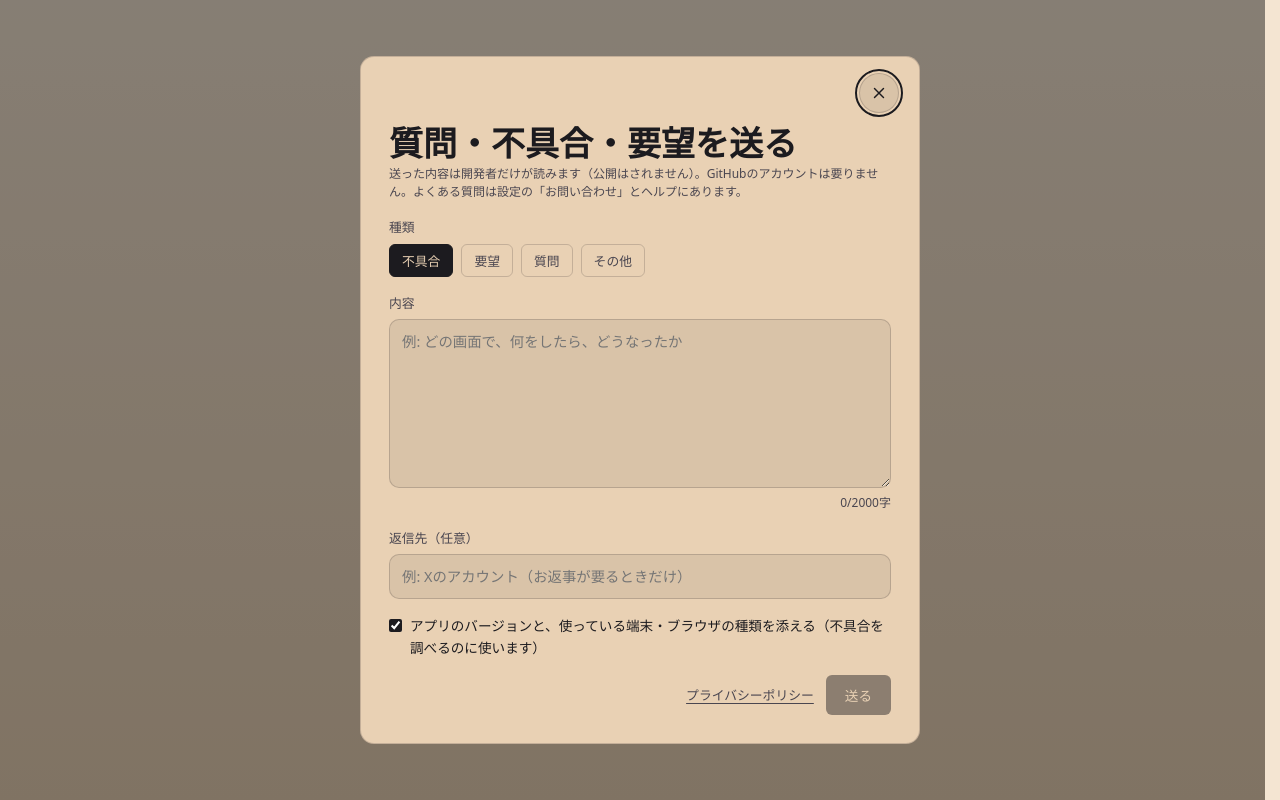
Scenario: FeedbackSheet › sends the kind, the text and the optional reply address to the site function, then thanks
This screenshot has width=1280, height=800.
Expected: the button "送る" is disabled, [826,675,891,715]
Click the button "要望" at point(487, 260), box [461,244,513,277]
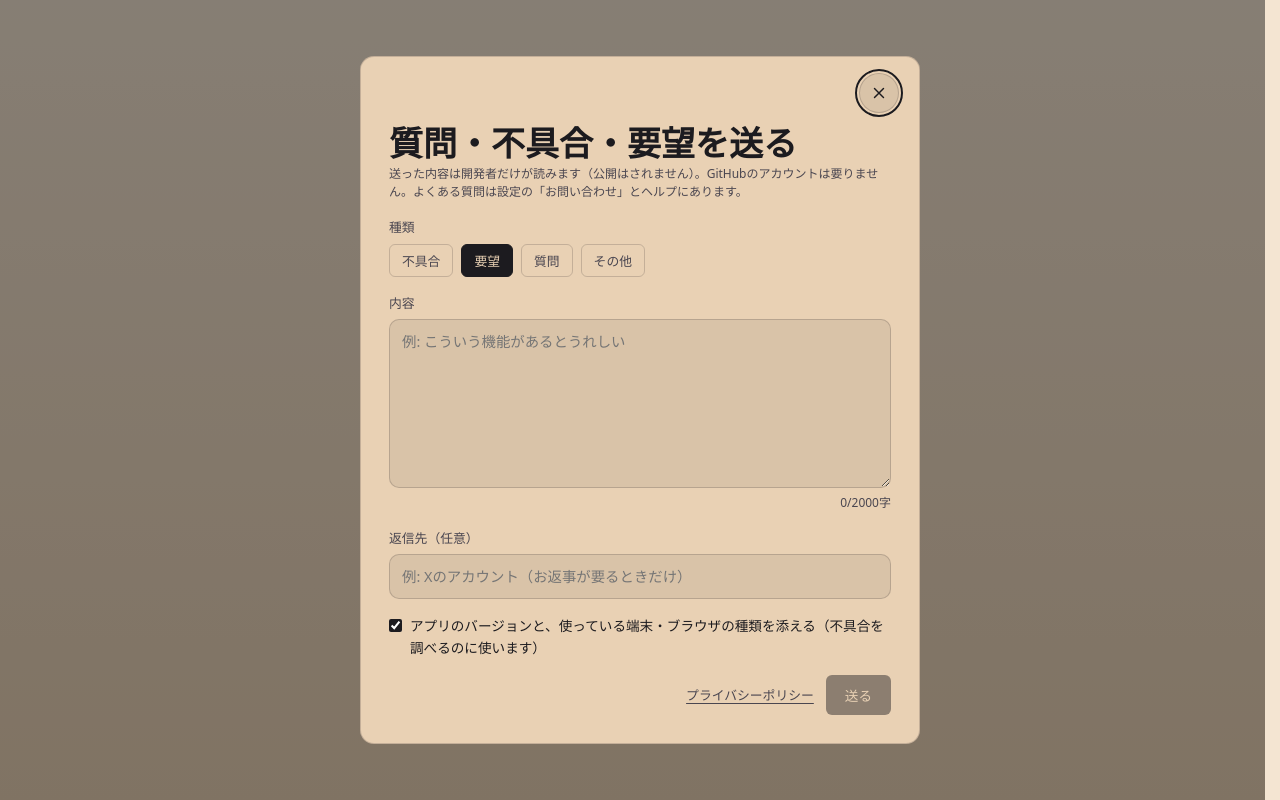
Type "ダークモードの色を選べるとうれしいです" into the text box labelled "内容 0/2000字" at point(640, 404), box [389,319,891,488]
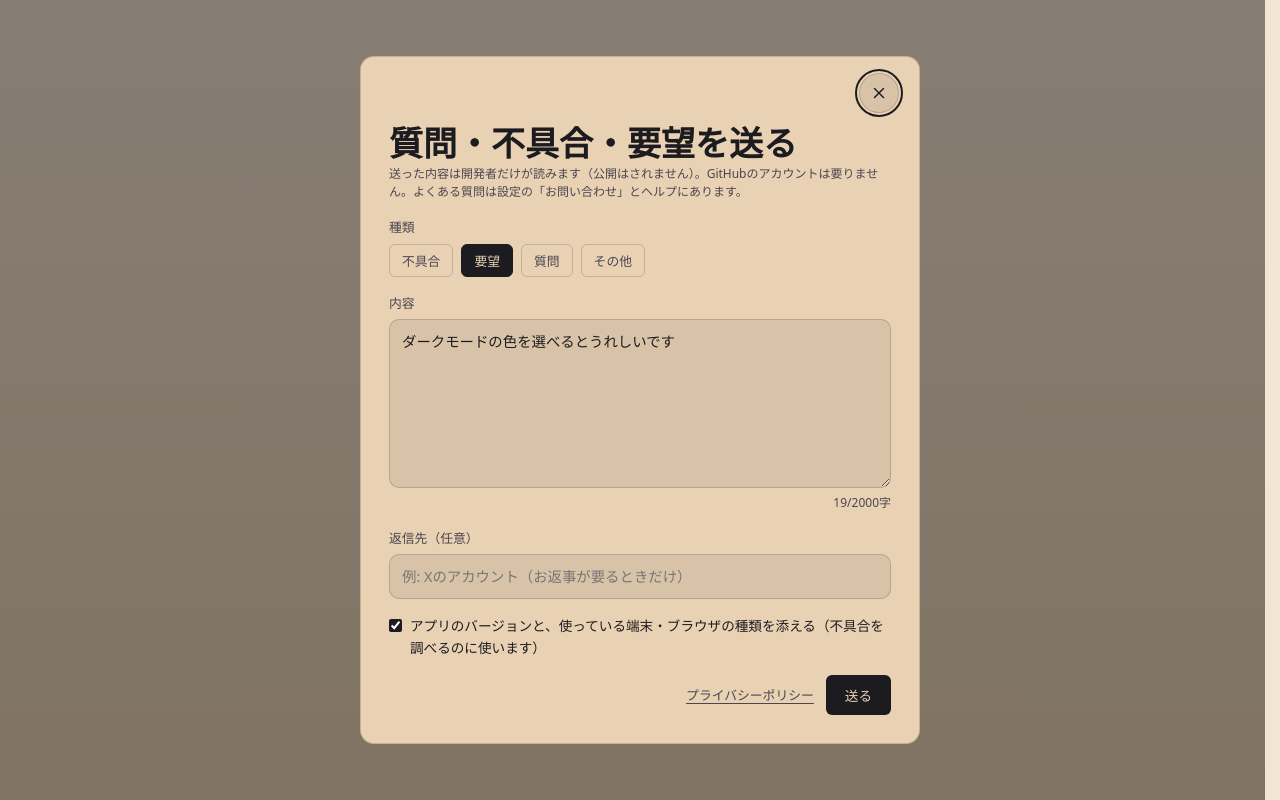
Type "@me" into the field labelled "返信先（任意）" at point(640, 577), box [389,554,891,599]
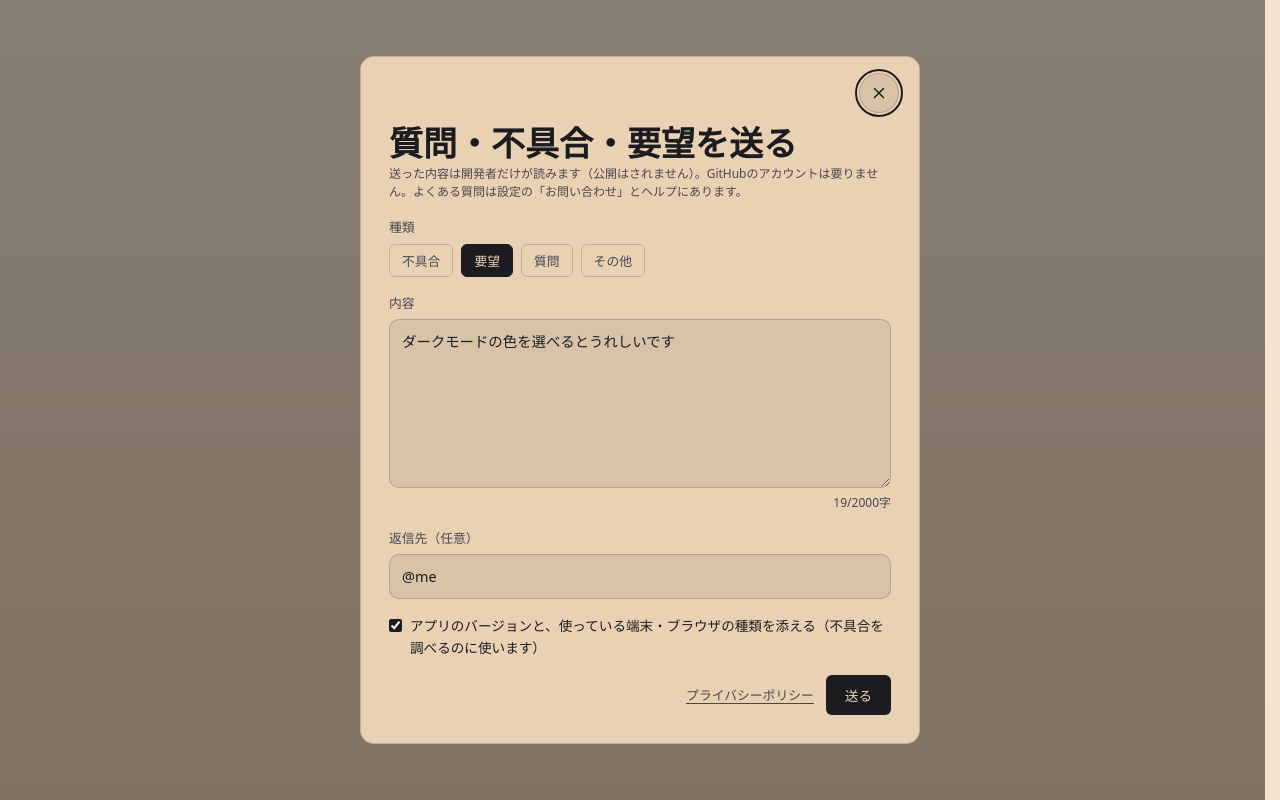
Click the checkbox at point(396, 626), box [389,619,402,632]
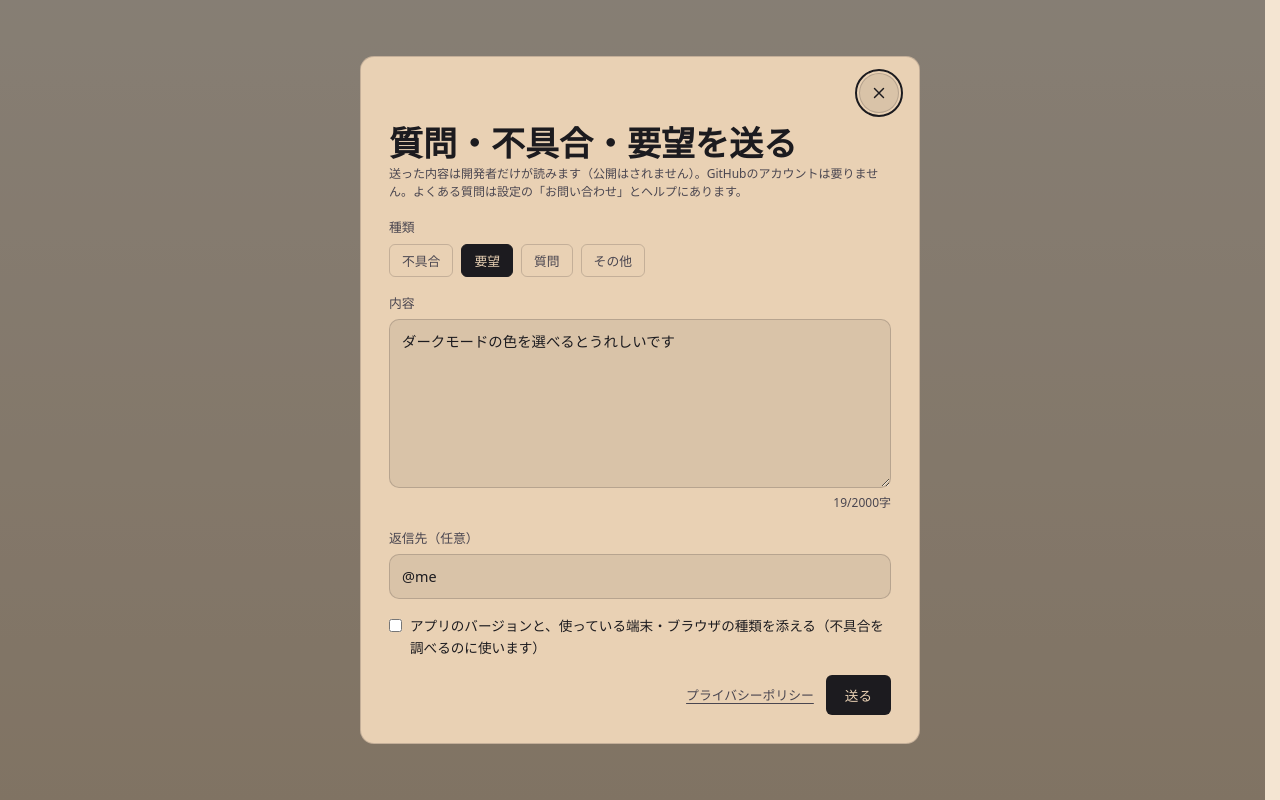
Expected: the button "送る" is enabled
Click the button "送る" at point(858, 695), box [826,675,891,715]
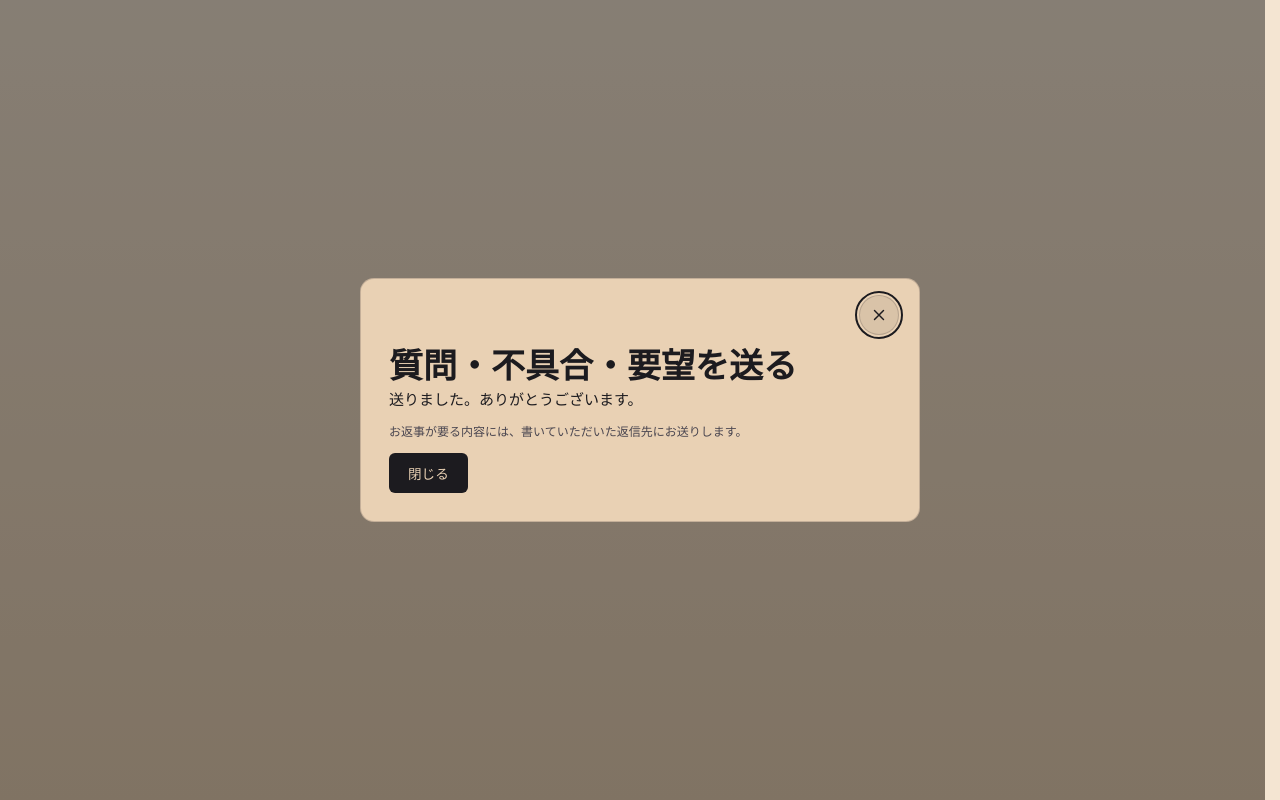
Expected: the text "送りました。ありがとうございます。" is shown, [389,387,642,411]
